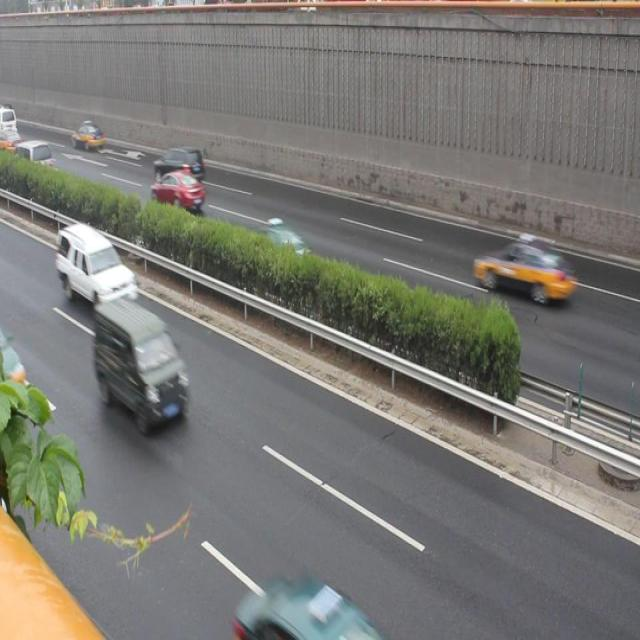car: (234, 566, 383, 640), (468, 232, 576, 312), (54, 217, 140, 315), (249, 210, 315, 278), (151, 166, 204, 218), (153, 144, 202, 183)
truck: (91, 295, 191, 427)
